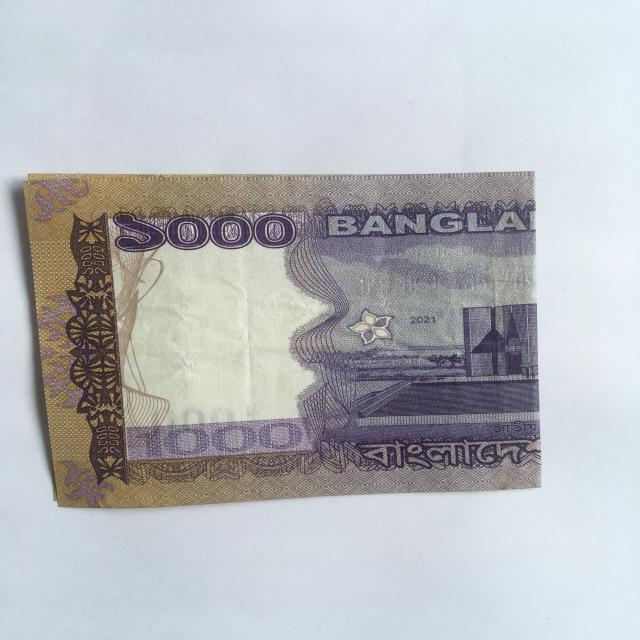Taka: (21, 164, 567, 512)
